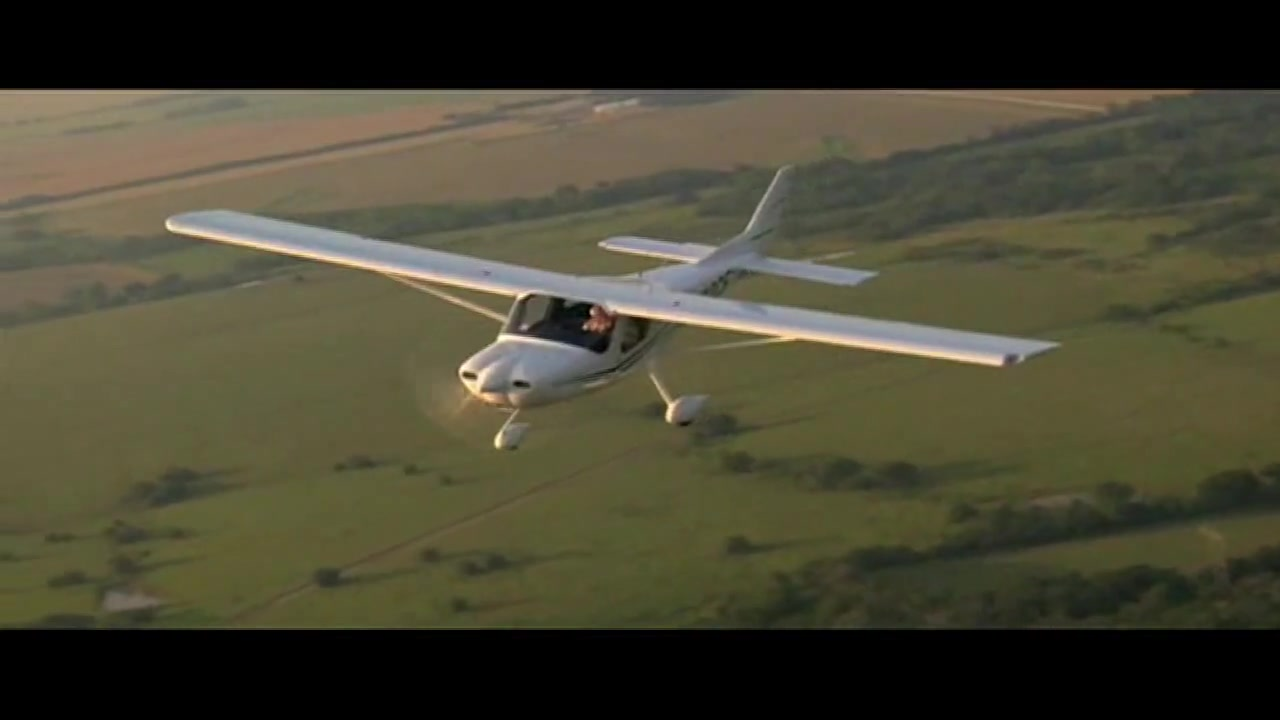aeroplane: (163, 161, 1062, 459)
